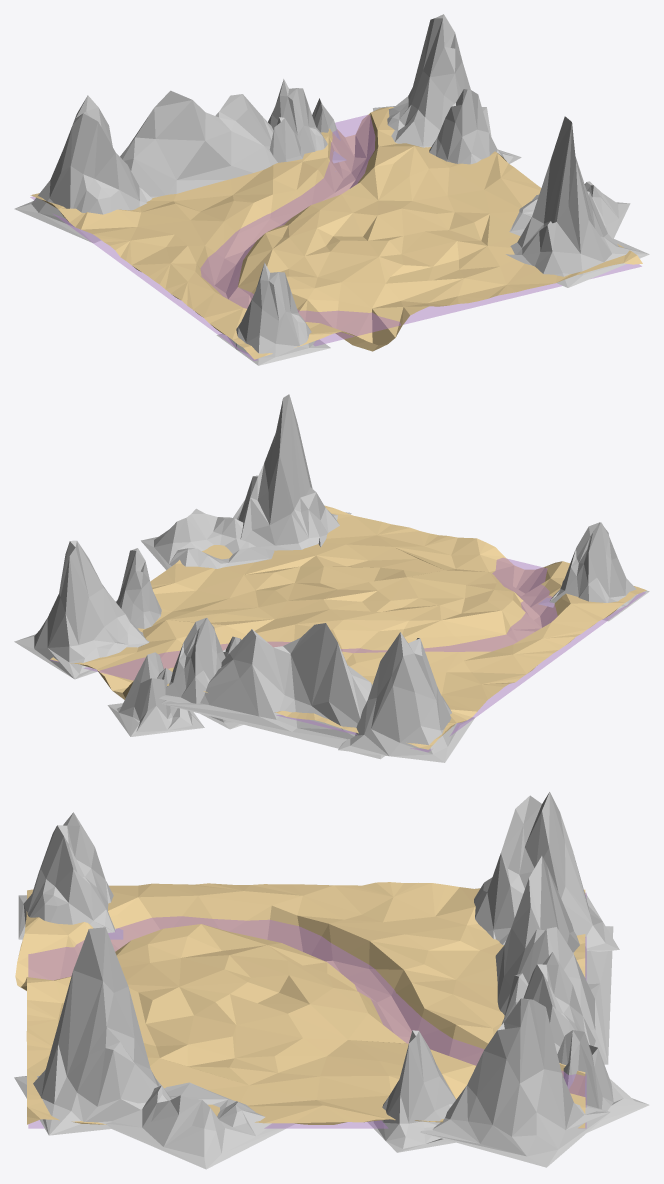
Rendered from landscape3_groter.fbx.
3 renders of one model, top to bottom at view 1: azimuth 30°, elevation 25°; view 2: azimuth 150°, elevation 25°; view 3: azimuth 270°, elevation 25°, orthographic. The views are drawn at different scales.
Parts seen in each view (by area): view 1: Land, Water, Landscape_7, Landscape_9, Landscape_10, Landscape_2, Landscape_11, Landscape_5, Landscape_6, Landscape_8, Landscape_4, Landscape_3; view 2: Land, Landscape_7, Landscape_10, Landscape_9, Landscape_2, Water, Landscape_8, Landscape_11, Landscape_3, Landscape_6, Landscape_5; view 3: Land, Landscape_9, Landscape_2, Water, Landscape_10, Landscape_7, Landscape_8, Landscape_11, Landscape_5, Landscape_3, Landscape_6.
Part boxes in pixels (<box>): Land: <box>30,107,642,359</box>; Water: <box>30,115,641,360</box>; Landscape_7: <box>120,90,335,198</box>; Landscape_9: <box>506,116,649,287</box>; Landscape_10: <box>14,95,151,243</box>; Landscape_2: <box>373,14,491,147</box>; Landscape_11: <box>216,262,330,365</box>; Landscape_5: <box>429,89,521,164</box>; Landscape_6: <box>268,79,346,163</box>; Landscape_8: <box>509,181,630,238</box>; Landscape_4: <box>269,117,304,162</box>; Landscape_3: <box>312,98,340,140</box>; Land: <box>50,505,646,749</box>; Landscape_7: <box>161,623,384,759</box>; Landscape_10: <box>338,632,474,762</box>; Landscape_9: <box>233,394,351,550</box>; Landscape_2: <box>14,540,149,679</box>; Water: <box>50,557,645,752</box>; Landscape_8: <box>141,508,274,569</box>; Landscape_11: <box>538,522,649,621</box>; Landscape_3: <box>107,652,204,736</box>; Landscape_6: <box>159,618,225,703</box>; Landscape_5: <box>115,548,161,628</box>; Land: <box>15,882,585,1128</box>; Landscape_9: <box>14,927,161,1135</box>; Landscape_2: <box>420,998,610,1167</box>; Water: <box>28,893,586,1128</box>; Landscape_10: <box>474,792,619,951</box>; Landscape_7: <box>495,856,613,1064</box>; Landscape_8: <box>106,1082,295,1169</box>; Landscape_11: <box>18,812,123,939</box>; Landscape_5: <box>367,1030,455,1152</box>; Landscape_3: <box>557,1030,649,1132</box>; Landscape_6: <box>523,952,595,1053</box>.
Bounding box in the file's own units: 8805 × 3143 × 8384.
